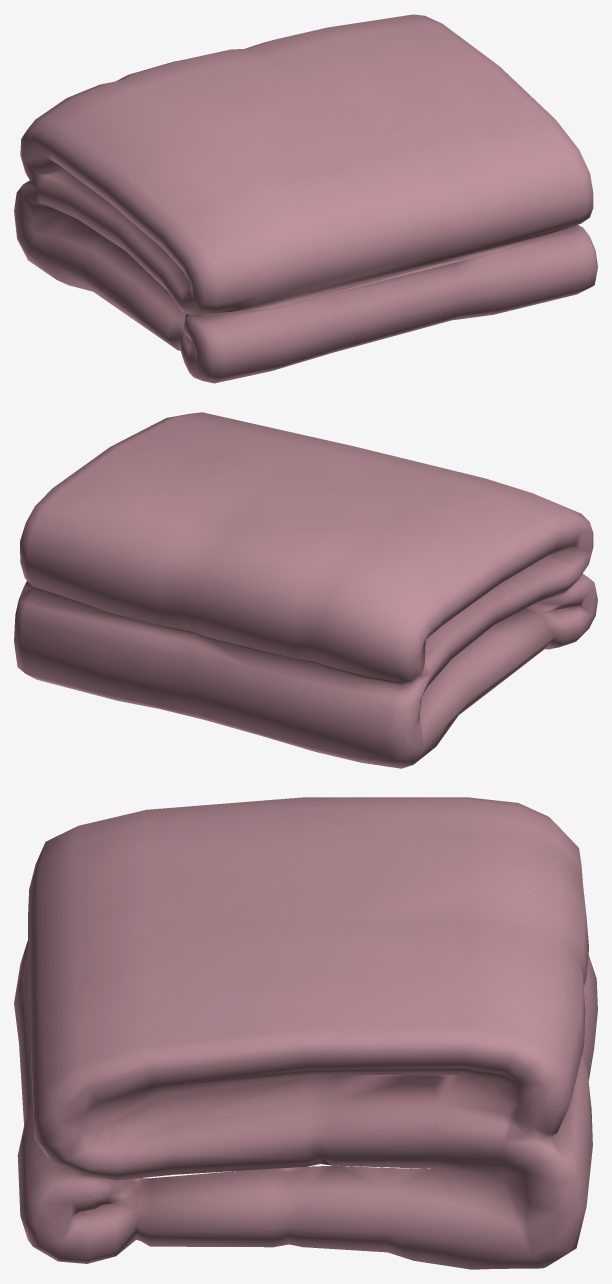
The model's file is folded-blanket.glb.
3 views of the same model, one above another, from view 1: azimuth 30°, elevation 25°; view 2: azimuth 150°, elevation 25°; view 3: azimuth 270°, elevation 25° (orthographic). The views are drawn at different scales.
Visible parts, largest first — view 1: folded-blanket; view 2: folded-blanket; view 3: folded-blanket.
Boxes of the visible parts, box(x1,y1,x2,y2) form: folded-blanket: box(14, 14, 597, 383); folded-blanket: box(14, 412, 597, 768); folded-blanket: box(14, 797, 597, 1269).
Bounding box in the file's own units: 0.998 × 0.4512 × 0.9043.
Materials: 1 (1 with a texture image).
